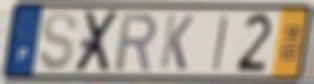2: (235, 11, 275, 76)
I: (210, 12, 232, 74)
K: (158, 12, 196, 73)
R: (113, 11, 160, 73)
S: (36, 9, 80, 73)
X: (72, 9, 123, 75)
